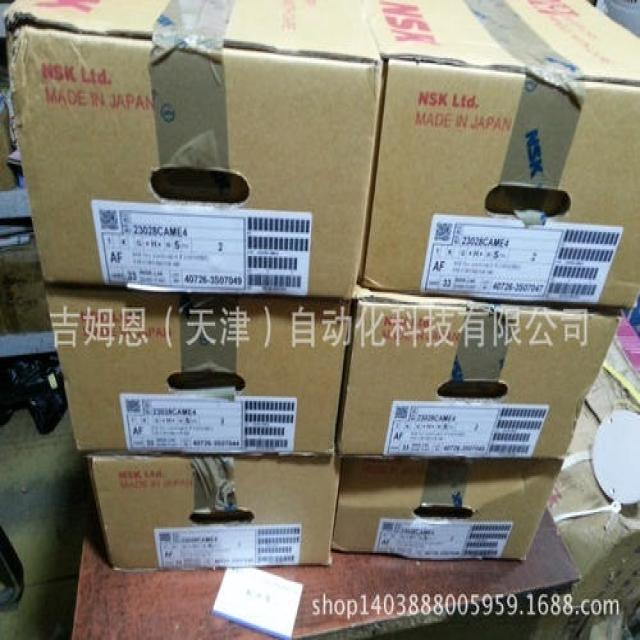box: (4, 0, 383, 299), (349, 0, 640, 309), (44, 280, 351, 461), (335, 288, 622, 463), (335, 288, 622, 461), (86, 451, 342, 572), (330, 459, 563, 561)
